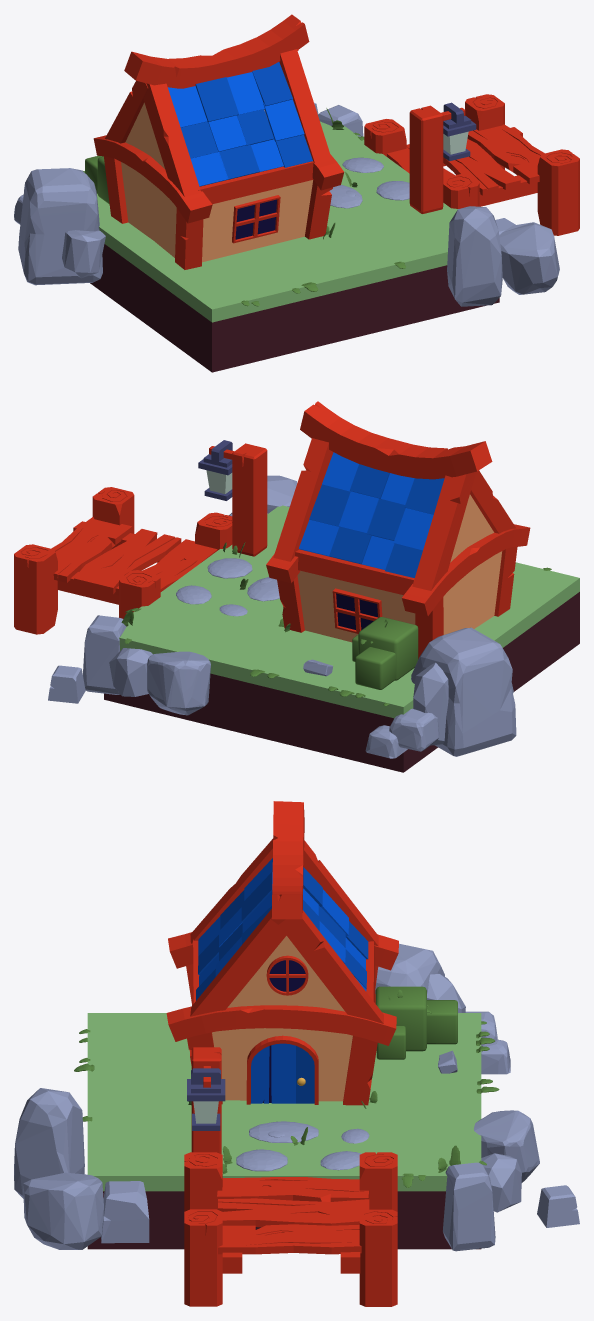
Rendered from casa.fbx.
The picture shows the model from 3 angles, top to bottom: view 1: azimuth 30°, elevation 25°; view 2: azimuth 150°, elevation 25°; view 3: azimuth 270°, elevation 25°; orthographic projection. The views are drawn at different scales.
Visible parts, largest first — view 1: Base, PAREDES, Cubo.056, Cubo.004, Cubo.103, Cubo.102, Cubo.046, Cubo.045, Cubo.007, Cubo.026, Cubo.038, Cubo.008 (+30 smaller); view 2: Base, Cubo.056, PAREDES, Cubo.004, Cubo.046, Cubo, Cubo.055, Cubo.006, Cubo.041, Cubo.026, Cubo.005, Cubo.038 (+37 smaller); view 3: Base, PAREDES, Cubo.103, Cubo.102, Cubo.001, puerta, Cubo.052, Cubo.038, Cubo, Cubo.005, Cubo.045, Cubo.041 (+26 smaller).
Boxes of the visible parts, x1=… form: Base: x1=90, y1=121, x2=499, y2=372; PAREDES: x1=121, y1=102, x2=312, y2=262; Cubo.056: x1=18, y1=168, x2=102, y2=285; Cubo.004: x1=124, y1=14, x2=309, y2=88; Cubo.103: x1=447, y1=206, x2=502, y2=306; Cubo.102: x1=499, y1=222, x2=559, y2=294; Cubo.046: x1=409, y1=105, x2=443, y2=213; Cubo.045: x1=537, y1=149, x2=579, y2=235; Cubo.007: x1=143, y1=83, x2=201, y2=196; Cubo.026: x1=93, y1=135, x2=212, y2=223; Cubo.038: x1=467, y1=124, x2=544, y2=184; Cubo.008: x1=279, y1=49, x2=331, y2=163; Base: x1=104, y1=505, x2=579, y2=772; Cubo.056: x1=411, y1=627, x2=516, y2=756; PAREDES: x1=297, y1=494, x2=502, y2=642; Cubo.004: x1=300, y1=401, x2=492, y2=479; Cubo.046: x1=232, y1=443, x2=267, y2=556; Cubo: x1=14, y1=544, x2=57, y2=634; Cubo.055: x1=147, y1=651, x2=210, y2=715; Cubo.006: x1=412, y1=472, x2=475, y2=590; Cubo.041: x1=74, y1=529, x2=181, y2=594; Cubo.026: x1=402, y1=524, x2=530, y2=616; Cubo.005: x1=273, y1=438, x2=333, y2=561; Cubo.038: x1=51, y1=517, x2=132, y2=582; Base: x1=87, y1=1013, x2=481, y2=1249; PAREDES: x1=212, y1=936, x2=352, y2=1101; Cubo.103: x1=14, y1=1088, x2=84, y2=1198; Cubo.102: x1=23, y1=1172, x2=103, y2=1249; Cubo.001: x1=166, y1=1005, x2=396, y2=1045; puerta: x1=246, y1=1035, x2=318, y2=1104; Cubo.052: x1=443, y1=1162, x2=495, y2=1251; Cubo.038: x1=218, y1=1224, x2=361, y2=1254; Cubo: x1=359, y1=1209, x2=397, y2=1306; Cubo.005: x1=271, y1=910, x2=383, y2=1023; Cubo.045: x1=184, y1=1209, x2=222, y2=1306; Cubo.041: x1=218, y1=1198, x2=369, y2=1227.
Size of the model in its own units: 2134 by 1061 by 1869.
